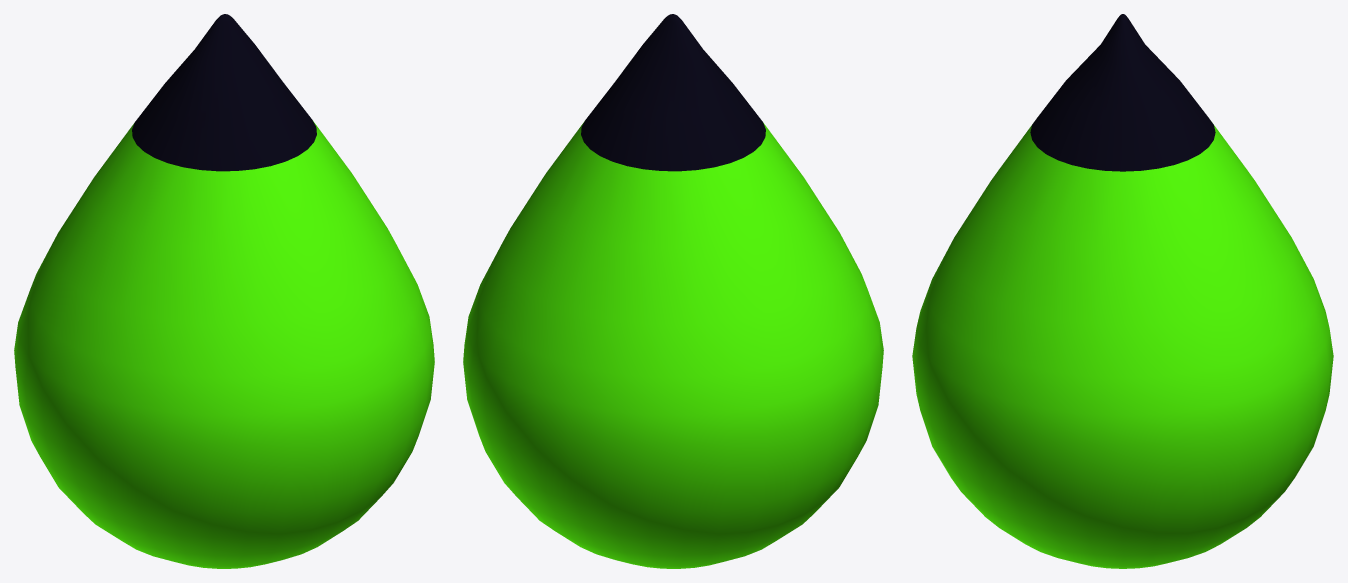
File: green_buoy.dae
3 views of the same model, side by side, from view 1: azimuth 30°, elevation 25°; view 2: azimuth 150°, elevation 25°; view 3: azimuth 270°, elevation 25° (orthographic).
Parts seen in each view (by area): view 1: Sphere; view 2: Sphere; view 3: Sphere.
Boxes of the visible parts, box(x1,y1,x2,y2) form: Sphere: box(14, 14, 434, 568); Sphere: box(463, 14, 883, 568); Sphere: box(912, 14, 1333, 568).
Size of the model in its own units: 0.1998 by 0.1998 by 0.28.
